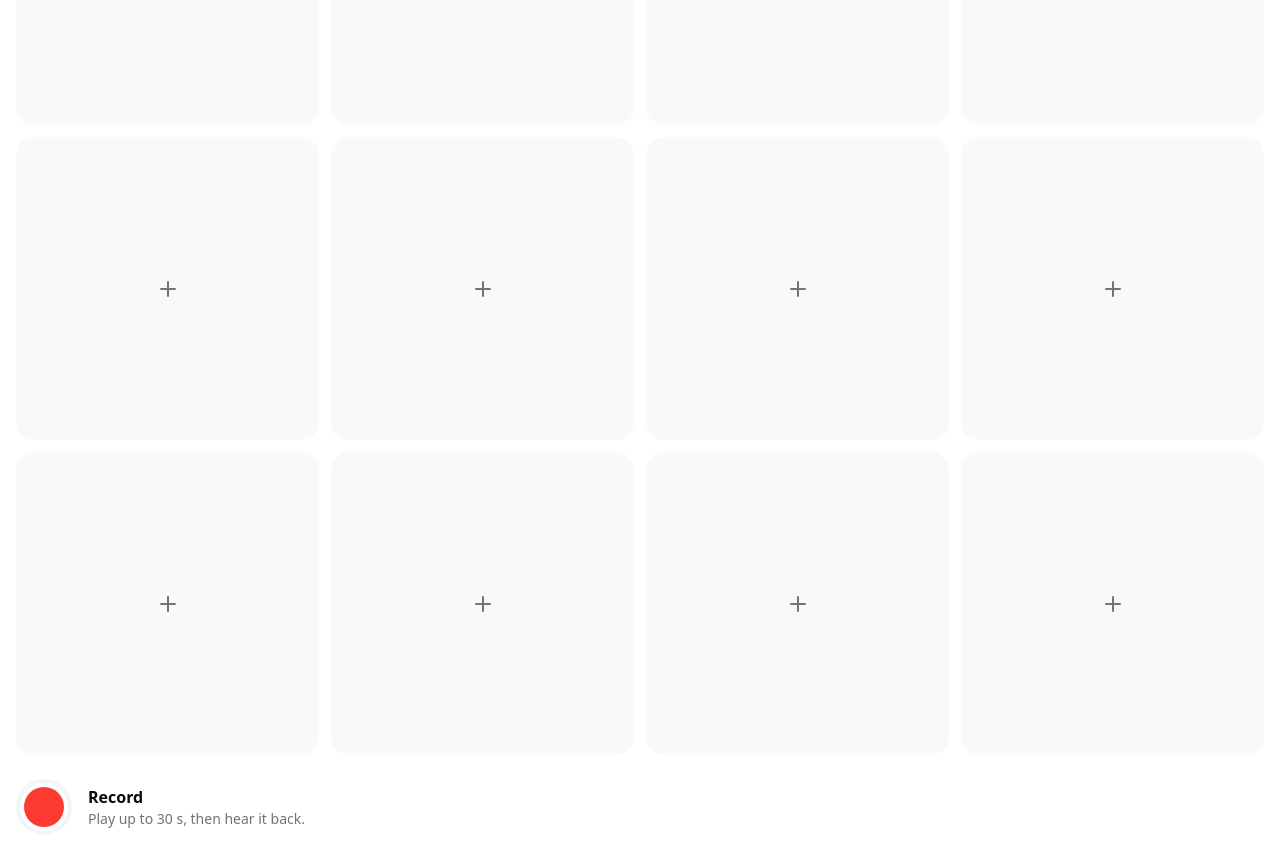
Test: a take on the Sound Pad › stopped by hiding the page › never plays by itself when the page is back before it’s made
(page scrolled)
Click the button named "Record" at (44, 807), box left=16, top=779, right=72, bottom=835
(page scrolled)
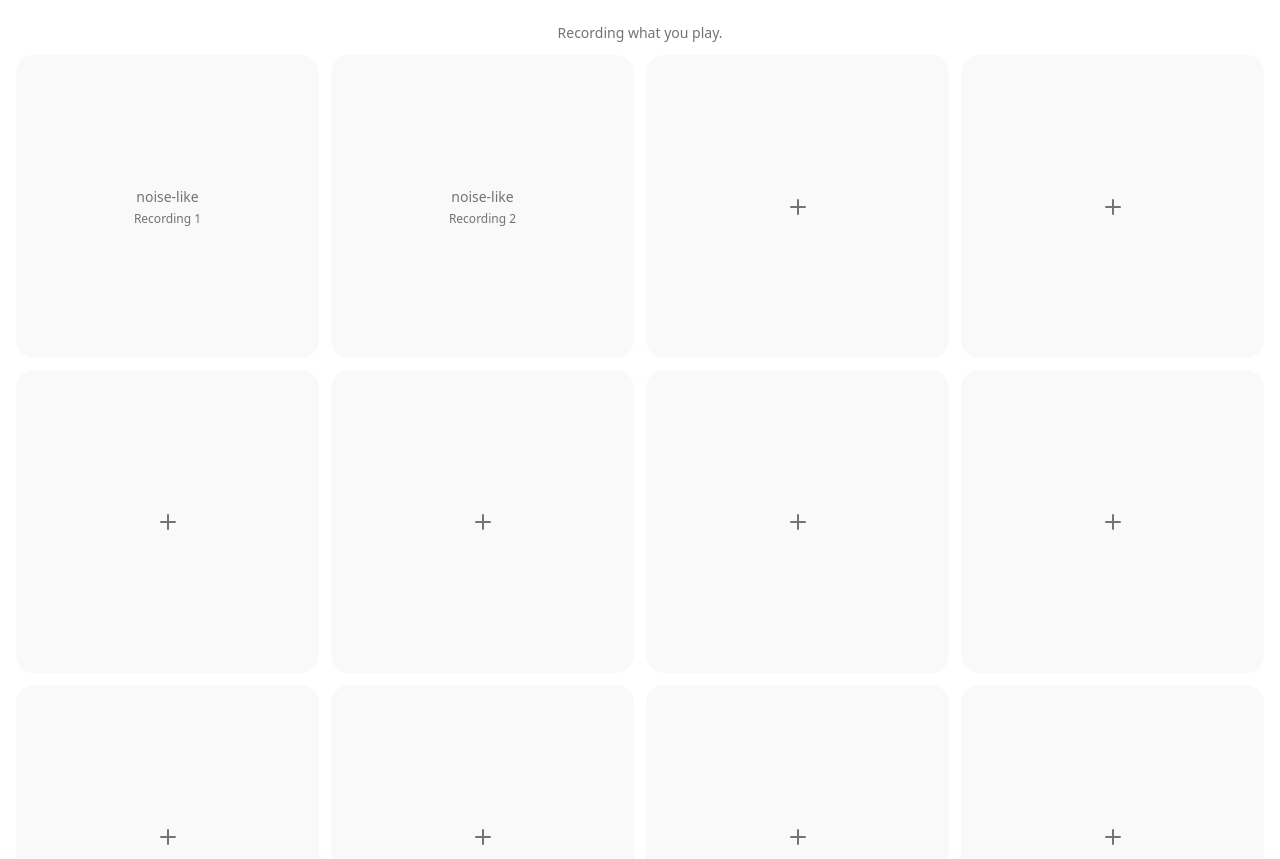
Press the mouse on the button "noise-like Recording 1" at (168, 206), box left=16, top=55, right=319, bottom=358
(page scrolled)
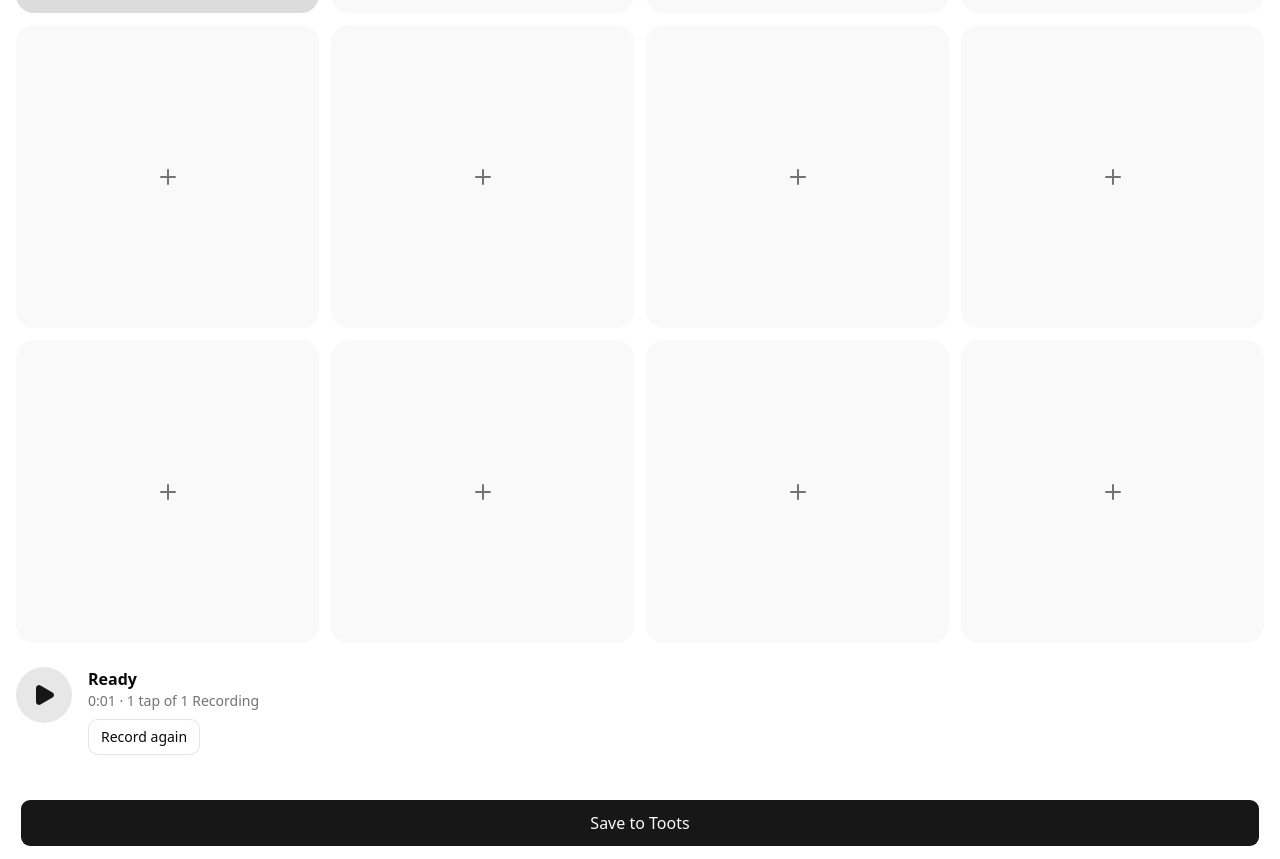
Expected: the text "Ready" is shown, left=88, top=668, right=137, bottom=690
